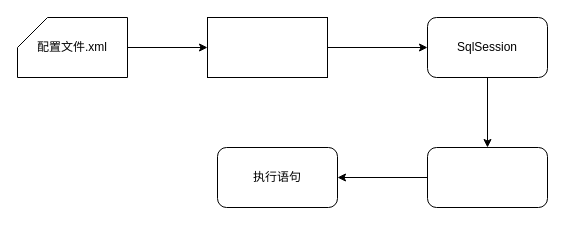
Image size: 565x225. Some labels were removed from this diagram. The box of each missing label's shape, as (x1, y1, x2, y2) in pixels:
Mapper对象 （和xml配置文件对应）: (426, 146, 548, 208)
SqlSessionFactory: (206, 16, 328, 78)
